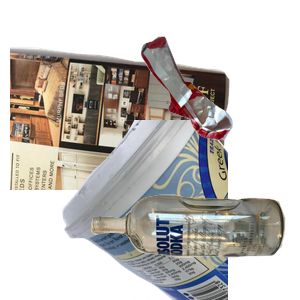glass: (88, 192, 300, 300)
paper: (10, 44, 232, 224)
plastic: (60, 120, 300, 300)
trash: (139, 34, 300, 167)
